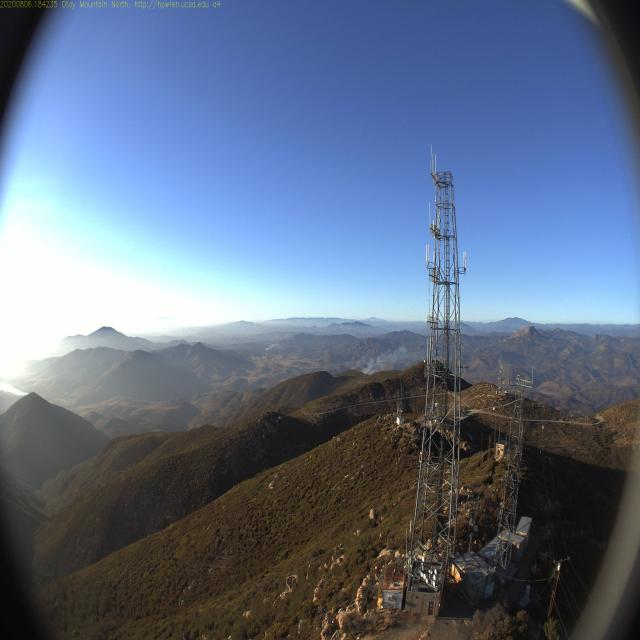smoke: (388, 342, 411, 371), (362, 353, 386, 377)
